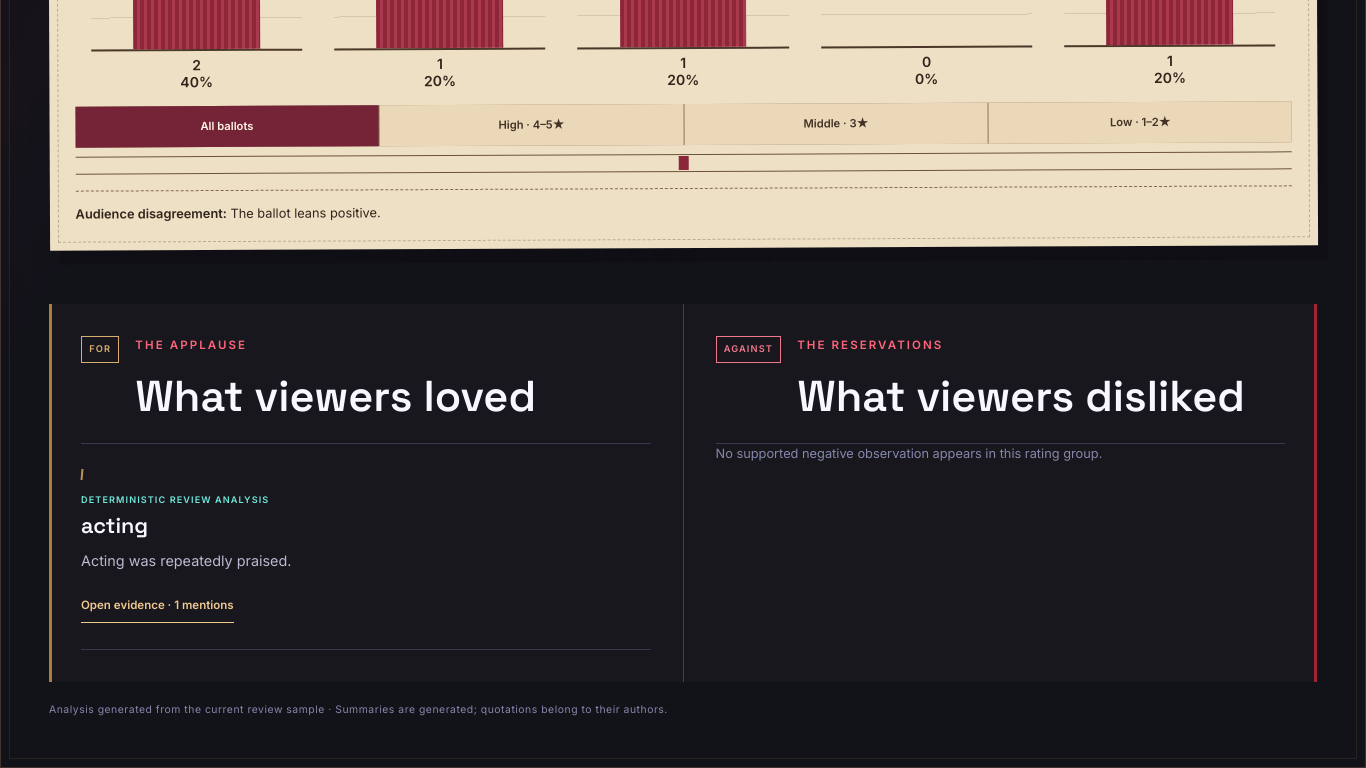
it: expands grounded evidence and links to its original review
The width and height of the screenshot is (1366, 768).
(page scrolled)
Click the button "Open evidence · 1 mentions": [157, 605] box 81,588 -> 234,623
(page scrolled)
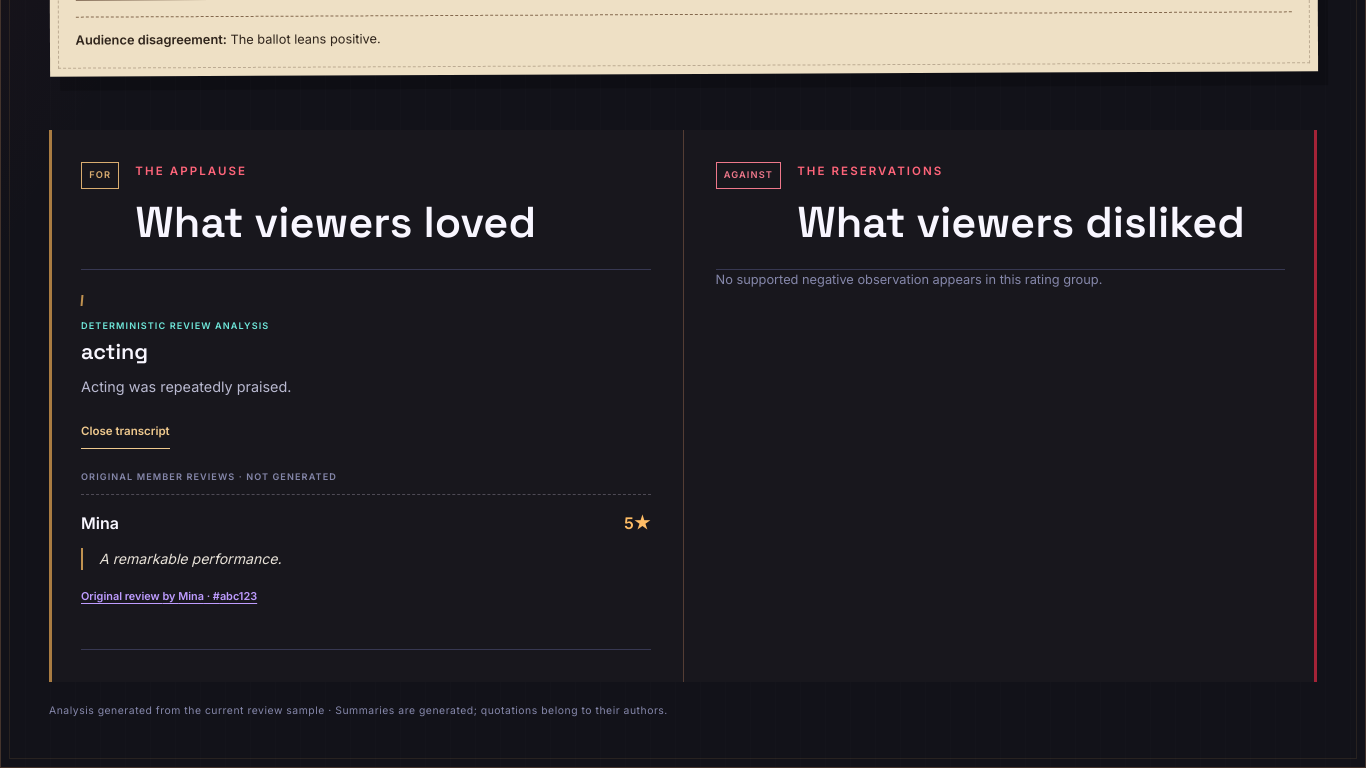
Expected: the text "A remarkable performance." is shown, 81,548 -> 650,570
